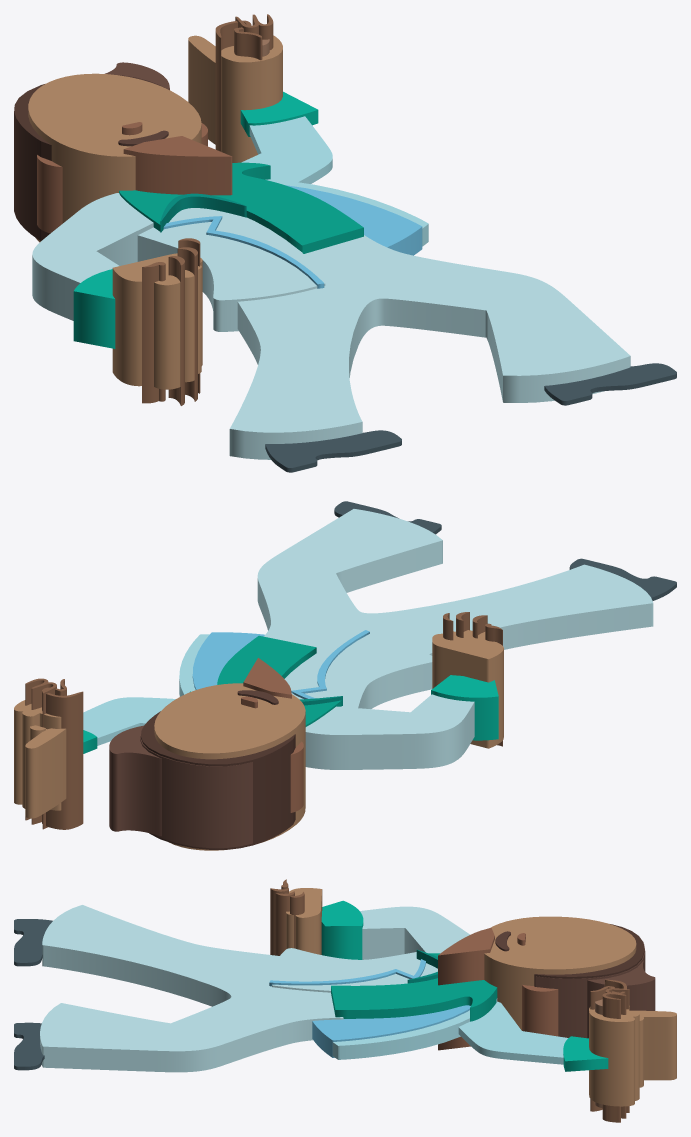
The model's file is emoji_u1f57a_1f3fd.glb.
3 renders of one model, top to bottom at view 1: azimuth 30°, elevation 25°; view 2: azimuth 150°, elevation 25°; view 3: azimuth 270°, elevation 25°, orthographic. The views are drawn at different scales.
Parts seen in each view (by area): view 1: emoji_u1f57a_1f3fd; view 2: emoji_u1f57a_1f3fd; view 3: emoji_u1f57a_1f3fd.
Boxes of the visible parts, left/top/right/bottom form: emoji_u1f57a_1f3fd: left=14, top=14, right=676, bottom=472; emoji_u1f57a_1f3fd: left=14, top=501, right=676, bottom=850; emoji_u1f57a_1f3fd: left=14, top=879, right=676, bottom=1122.
Size of the model in its own units: 0.0187 by 0.007 by 0.0342.
